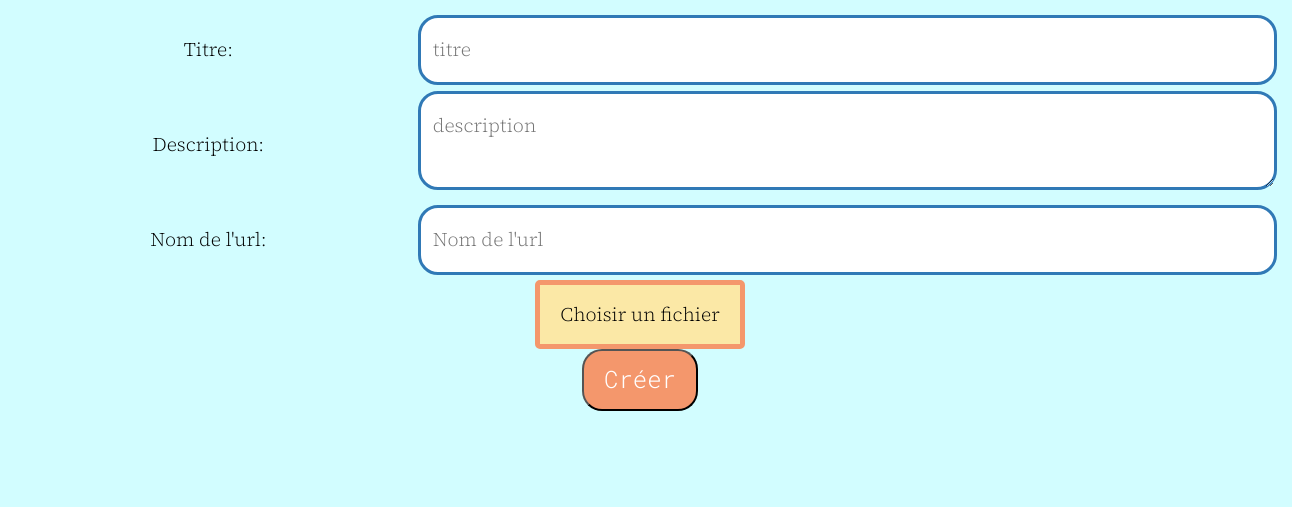
Test: AddAction › should fail when error validation
Clear the field with placeholder "titre" at (847, 50), box [418, 15, 1277, 85]
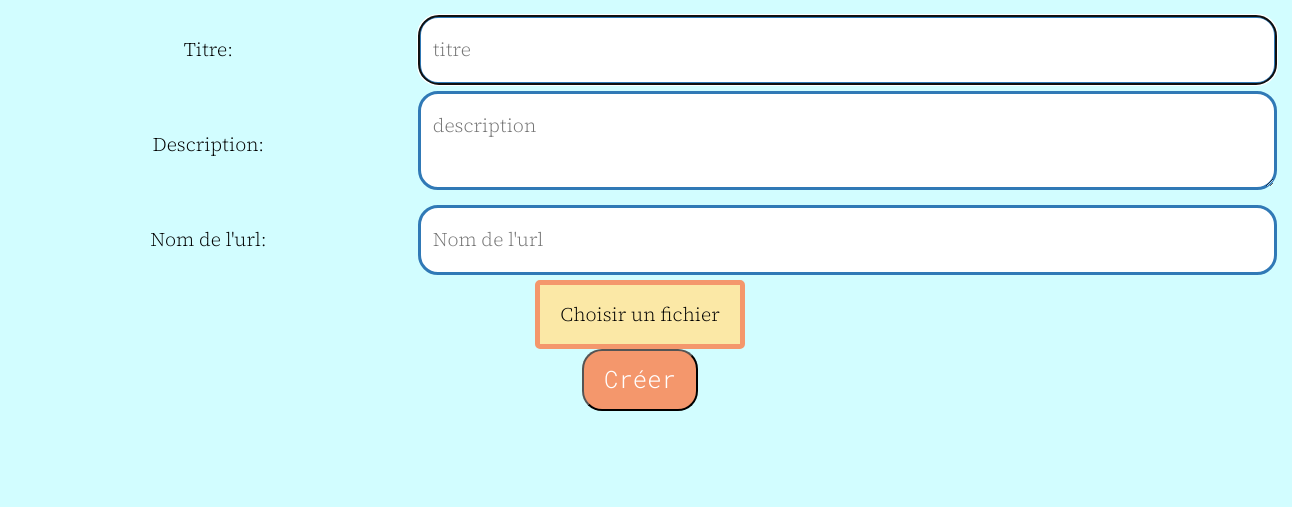
Click the button "Créer" at (640, 380), box [582, 349, 698, 411]
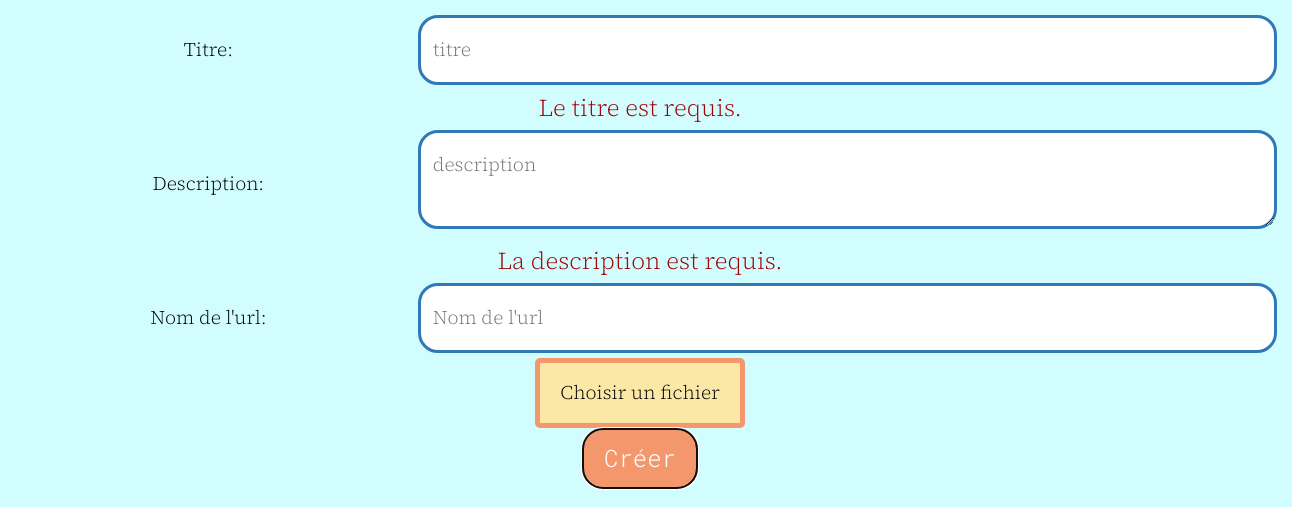
Result: the text "Le titre est requis." is shown at [2, 88, 1278, 127]
